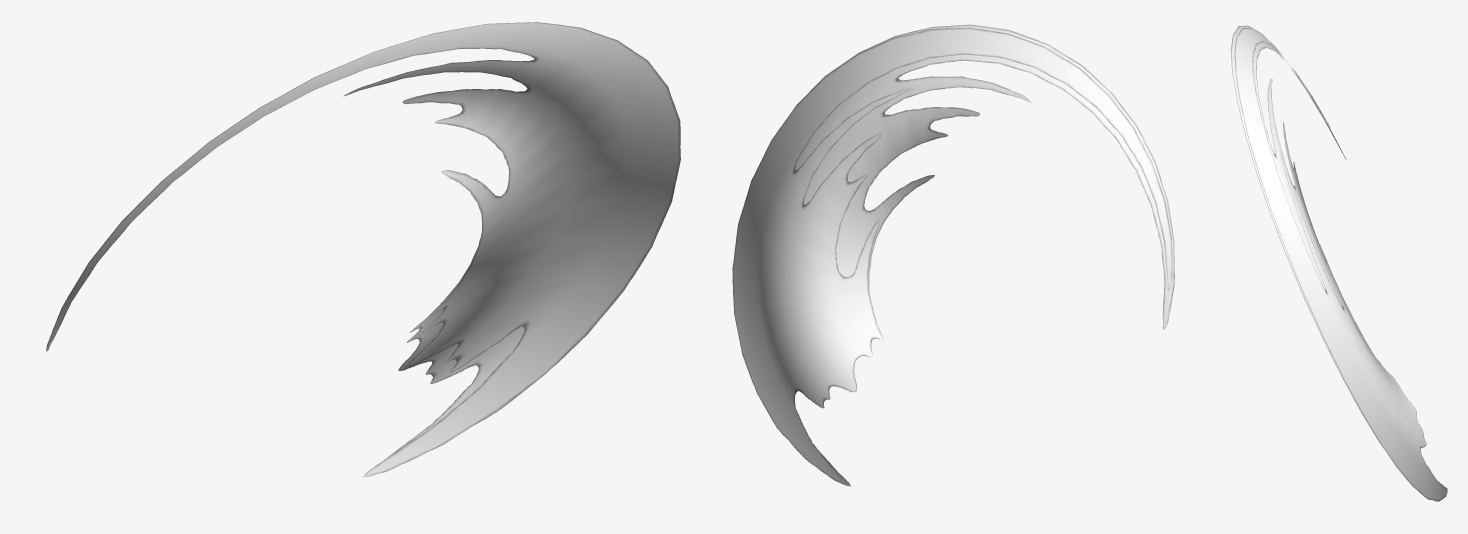
File: fx_m10114_skill01.fbx
The picture shows the model from 3 angles, left to right: view 1: azimuth 30°, elevation 25°; view 2: azimuth 150°, elevation 25°; view 3: azimuth 270°, elevation 25°; orthographic projection. The views are drawn at different scales.
Parts seen in each view (by area): view 1: trail_alpha, trail_add; view 2: trail_add, trail_alpha; view 3: trail_add, trail_alpha.
Boxes of the visible parts, x1,y1,x2,y2 form: trail_alpha: (46,22,680,477); trail_add: (67,56,674,470); trail_add: (732,27,1172,485); trail_alpha: (783,24,1174,486); trail_add: (1234,27,1447,501); trail_alpha: (1230,25,1445,487).
Size of the model in its own units: 341 by 307 by 144.
Materials: 2 (2 with a texture image).
